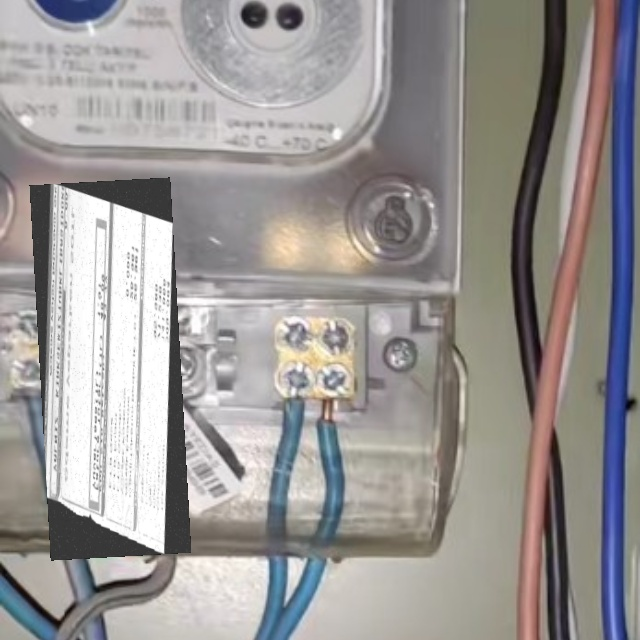electricity-bill: (29, 176, 191, 560)
